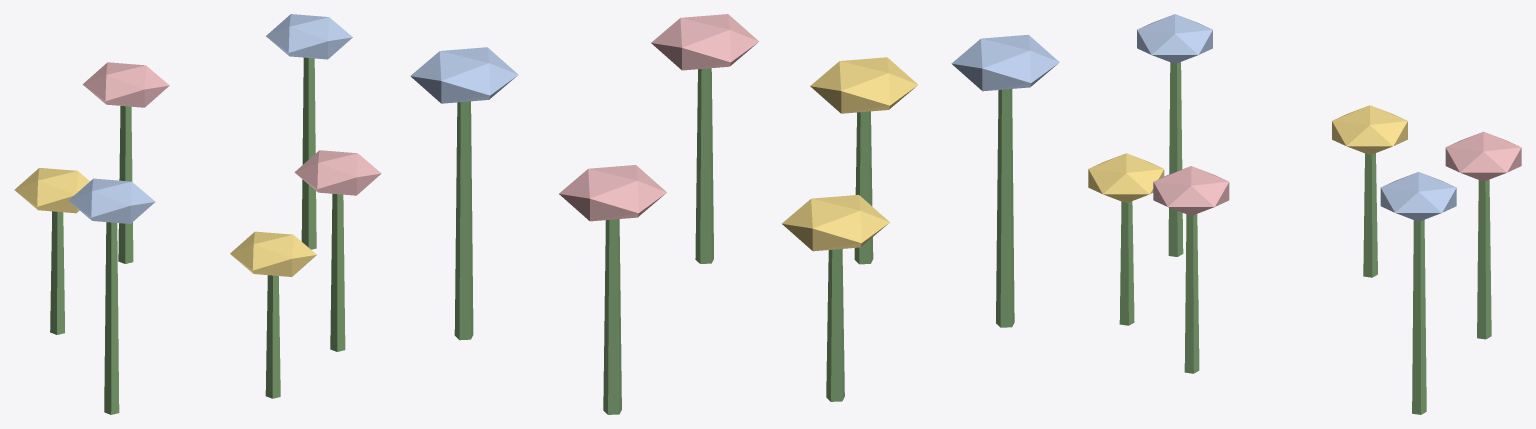
File: flower_patch_a.glb
3 renders of one model, left to right at view 1: azimuth 30°, elevation 25°; view 2: azimuth 150°, elevation 25°; view 3: azimuth 270°, elevation 25°, orthographic. The views are drawn at different scales.
Parts seen in each view (by area): view 1: bloom_4, bloom_1, bloom_2, bloom_3, bloom_5, stem_5, bloom_0, stem_2, stem_1, stem_3, stem_0, stem_4; view 2: bloom_1, bloom_2, bloom_3, bloom_5, bloom_4, bloom_0, stem_5, stem_2, stem_4, stem_1, stem_0, stem_3; view 3: bloom_2, bloom_1, bloom_4, bloom_0, bloom_5, bloom_3, stem_2, stem_4, stem_1, stem_5, stem_0, stem_3.
Part boxes in pixels (bbox=[...]): bloom_4: bbox=[82, 62, 169, 107]; bloom_1: bbox=[294, 150, 381, 195]; bloom_2: bbox=[266, 14, 352, 59]; bloom_3: bbox=[230, 231, 316, 276]; bloom_5: bbox=[68, 178, 155, 223]; stem_5: bbox=[104, 222, 119, 414]; bloom_0: bbox=[14, 168, 89, 213]; stem_2: bbox=[301, 57, 316, 249]; stem_1: bbox=[330, 193, 345, 351]; stem_3: bbox=[265, 275, 280, 398]; stem_0: bbox=[50, 211, 64, 334]; stem_4: bbox=[118, 106, 133, 263]; bloom_1: bbox=[651, 14, 758, 70]; bloom_2: bbox=[410, 47, 518, 103]; bloom_3: bbox=[810, 57, 917, 113]; bloom_5: bbox=[951, 34, 1059, 91]; bloom_4: bbox=[559, 165, 666, 221]; bloom_0: bbox=[782, 194, 889, 251]; stem_5: bbox=[996, 89, 1014, 327]; stem_2: bbox=[454, 101, 473, 340]; stem_4: bbox=[603, 219, 621, 414]; stem_1: bbox=[695, 68, 713, 263]; stem_0: bbox=[826, 249, 844, 401]; stem_3: bbox=[854, 111, 873, 264]; bloom_2: bbox=[1380, 172, 1456, 221]; bloom_1: bbox=[1153, 166, 1229, 215]; bloom_4: bbox=[1445, 131, 1521, 181]; bloom_0: bbox=[1332, 105, 1407, 155]; bloom_5: bbox=[1137, 14, 1212, 63]; bloom_3: bbox=[1088, 153, 1164, 203]; stem_2: bbox=[1412, 220, 1426, 414]; stem_4: bbox=[1477, 179, 1491, 339]; stem_1: bbox=[1184, 214, 1199, 373]; stem_5: bbox=[1168, 62, 1183, 256]; stem_0: bbox=[1363, 153, 1377, 277]; stem_3: bbox=[1119, 201, 1134, 325].
Size of the model in its own units: 1.38 by 0.7815 by 1.33.
